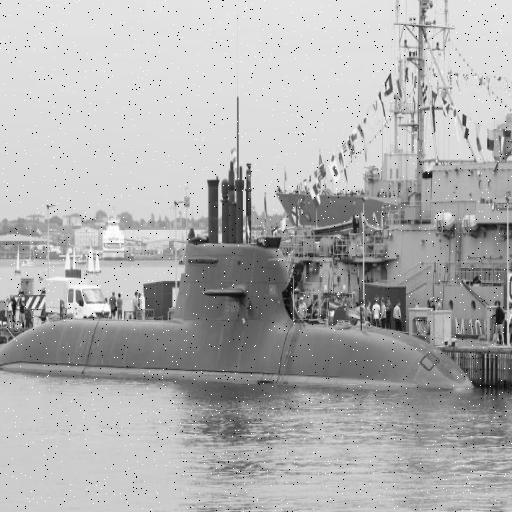submarine: (1, 152, 473, 375)
